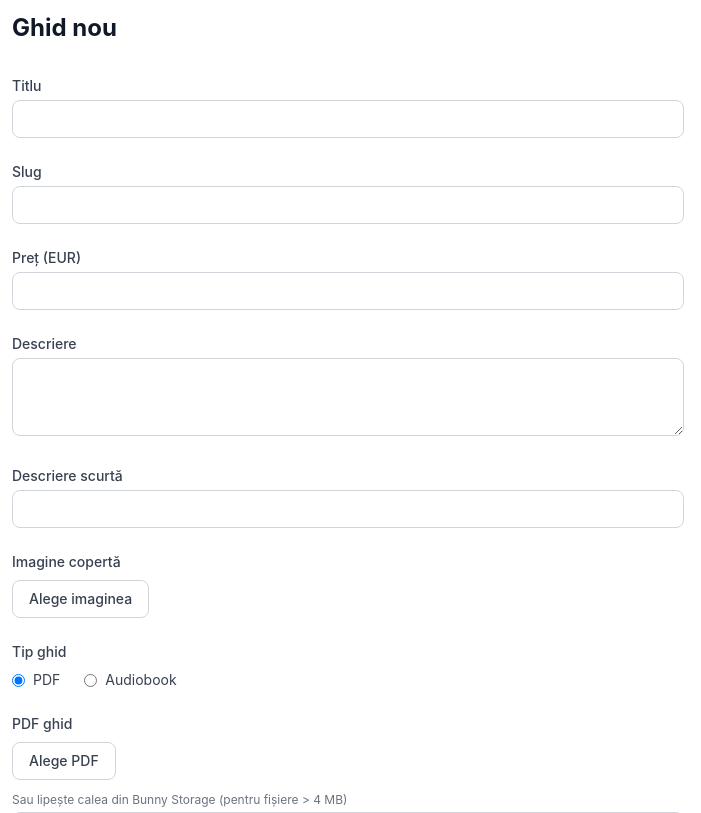
New Guide Page (/admin/ghiduri/new) › auto-generates slug from title
Type "Ghidul Mindfulness" into the field labelled "Titlu". click: x=348, y=119
box: [12,100,684,138]
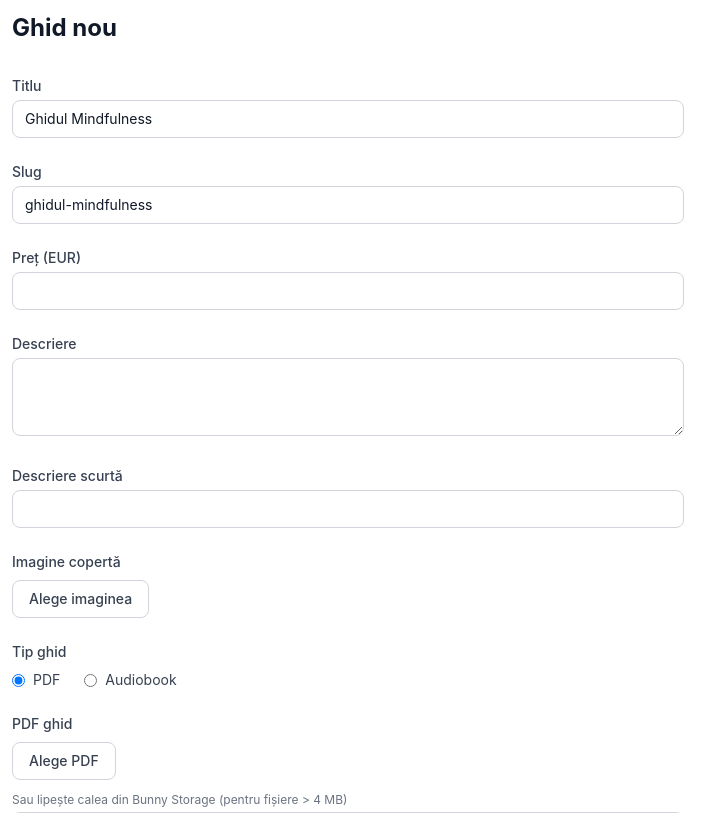
Expected: the field labelled "Slug" holds "ghidul-mindfulness", [12,186,684,224]
